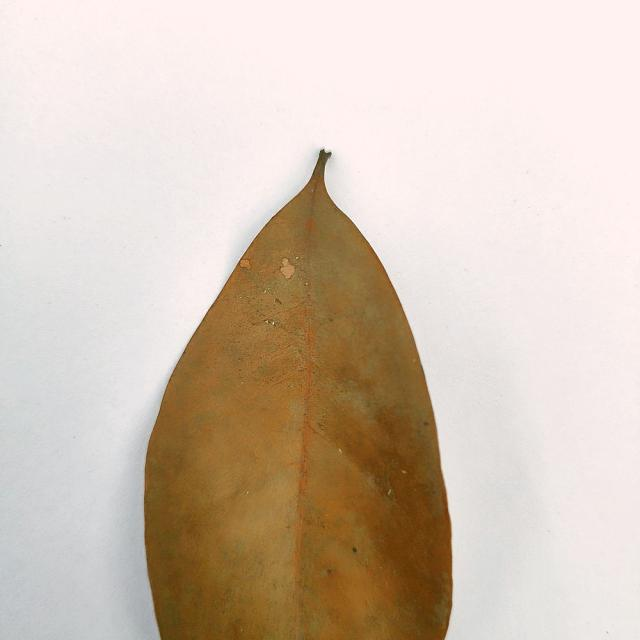Dry_Leaf-Lychee: (142, 152, 454, 639)
